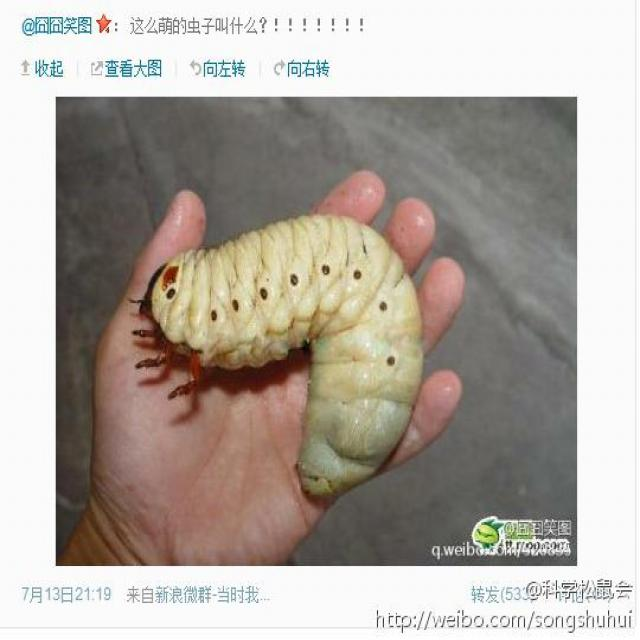Grub-Adult-: (133, 210, 430, 502)
